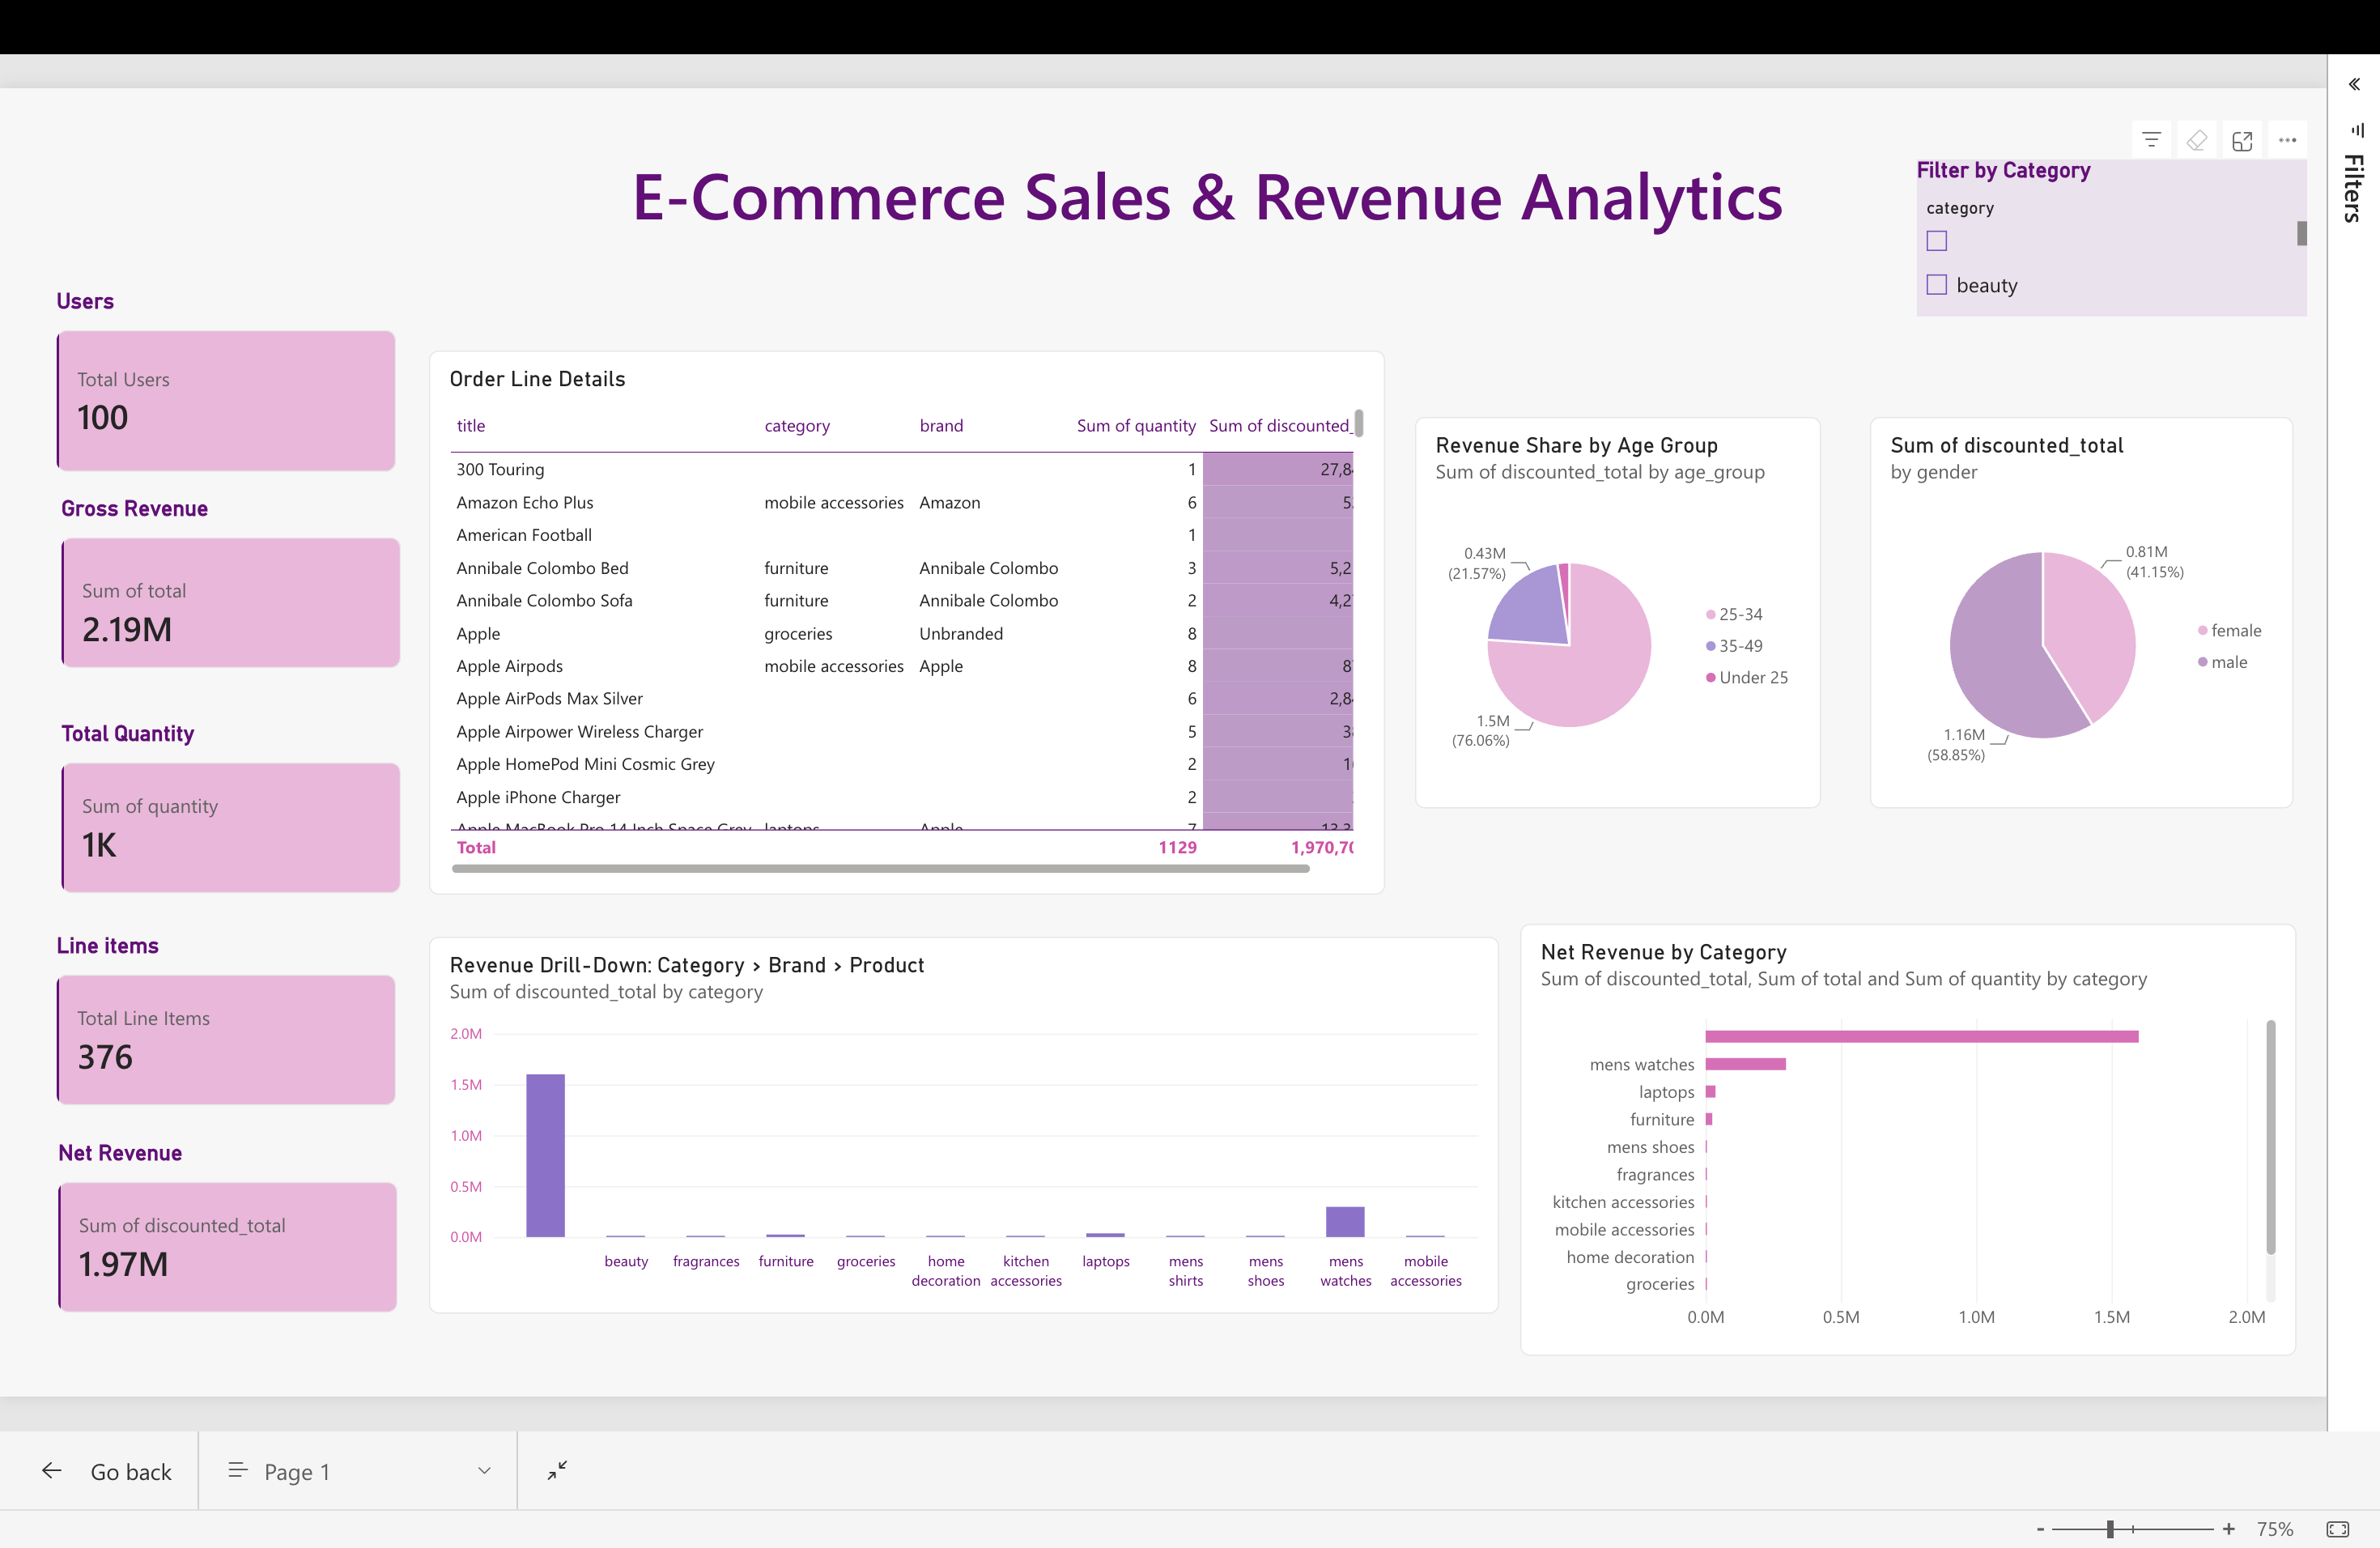

The page's visual inventory and layout, read from the dashboard file:
{"tool":"powerbi","page":{"name":"Page 1","canvas":[1920,1080],"ordinal":0},"visuals":[{"type":"cardVisual","title":"Net Revenue","fields":{"Data":["Sum(powerbi_dashboard_data.discounted_total)"]},"box":[47.7,869.4,280.3,141.1],"z":0},{"type":"cardVisual","title":"Gross Revenue","fields":{"Data":["Sum(powerbi_dashboard_data.total)"]},"box":[50.4,337.5,280.3,141.1],"z":1000},{"type":"cardVisual","title":"Total Quantity","fields":{"Data":["Sum(powerbi_dashboard_data.quantity)"]},"box":[50.4,523.6,280.3,141.1],"z":2000},{"type":"cardVisual","title":"Line items","fields":{"Data":["powerbi_dashboard_data.Total Line Items"]},"box":[46.5,698.2,280.3,141.1],"z":3000},{"type":"slicer","title":"Filter by Category","fields":{"Values":["powerbi_dashboard_data.category"]},"box":[1582.5,58.5,322.2,129.7],"z":4000},{"type":"clusteredBarChart","title":"Net Revenue by Category","fields":{"Category":["powerbi_dashboard_data.category"],"Y":["Sum(powerbi_dashboard_data.discounted_total)"]},"box":[1254.9,689.4,640.6,356.5],"z":5000},{"type":"clusteredColumnChart","title":"Revenue Drill-Down: Category > Brand > Product","fields":{"Category":["powerbi_dashboard_data.category","powerbi_dashboard_data.brand","powerbi_dashboard_data.title"],"Y":["Sum(powerbi_dashboard_data.discounted_total)"]},"box":[354.6,699.7,882.8,310.8],"z":6000},{"type":"pieChart","title":"Revenue Share by Age Group","fields":{"Category":["powerbi_dashboard_data.age_group"],"Y":["Sum(powerbi_dashboard_data.discounted_total)"]},"box":[1167.5,271.9,335,322.8],"z":7000},{"type":"tableEx","title":"Order Line Details","fields":{"Values":["powerbi_dashboard_data.title","powerbi_dashboard_data.category","powerbi_dashboard_data.brand","Sum(powerbi_dashboard_data.quantity)","Sum(powerbi_dashboard_data.discounted_total)"]},"box":[354.4,216,788.9,449.1],"z":8000},{"type":"textbox","box":[440.4,51.2,1105.6,144.4],"z":9000},{"type":"cardVisual","title":"Users","fields":{"Data":["powerbi_dashboard_data.Total Users"]},"box":[46.1,167.5,280,150],"z":10000},{"type":"pieChart","fields":{"Category":["powerbi_dashboard_data.gender"],"Y":["Sum(powerbi_dashboard_data.discounted_total)"]},"box":[1543.8,271.9,349.5,322.8],"z":11000}]}

Visuals, with their boxes on the page's 1920x1080 design canvas (x1, y1, x2, y2). These are canvas units, not pixel positions in the 2380x1548 screenshot, which may show the page scaled, cropped or inside an application window:
"Net Revenue" cardVisual: left=48, top=869, right=328, bottom=1010
"Gross Revenue" cardVisual: left=50, top=338, right=331, bottom=479
"Total Quantity" cardVisual: left=50, top=524, right=331, bottom=665
"Line items" cardVisual: left=46, top=698, right=327, bottom=839
"Filter by Category" slicer: left=1582, top=58, right=1905, bottom=188
"Net Revenue by Category" clusteredBarChart: left=1255, top=689, right=1896, bottom=1046
"Revenue Drill-Down: Category > Brand > Product" clusteredColumnChart: left=355, top=700, right=1237, bottom=1010
"Revenue Share by Age Group" pieChart: left=1168, top=272, right=1502, bottom=595
"Order Line Details" tableEx: left=354, top=216, right=1143, bottom=665
textbox: left=440, top=51, right=1546, bottom=196
"Users" cardVisual: left=46, top=168, right=326, bottom=318
pieChart - powerbi_dashboard_data.gender x Sum(powerbi_dashboard_data.discounted_total): left=1544, top=272, right=1893, bottom=595
